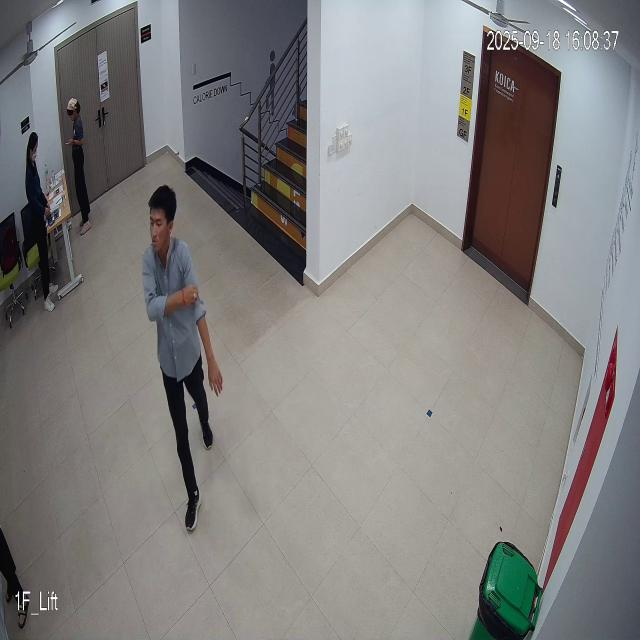face: (146, 179, 177, 258)
